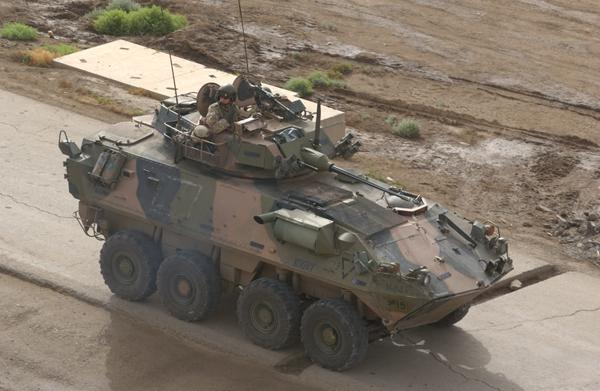armored_car: (57, 65, 518, 372)
